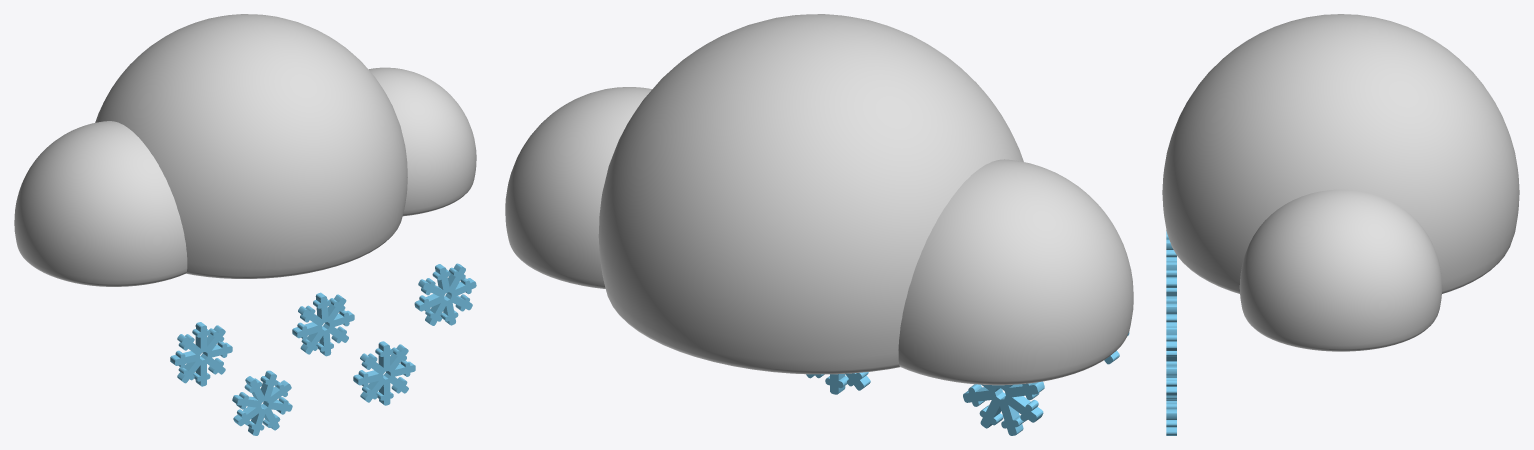
File: Cloud_with_Snow.gltf
The picture shows the model from 3 angles, left to right: view 1: azimuth 30°, elevation 25°; view 2: azimuth 150°, elevation 25°; view 3: azimuth 270°, elevation 25°; orthographic projection. The views are drawn at different scales.
Visible parts, largest first — view 1: Cube.209, Circle.2119, Circle.2120, Circle.2117, Circle.2116, Circle.2118; view 2: Cube.209, Circle.2119, Circle.2120; view 3: Cube.209, Circle.2117, Circle.2116, Circle.2120.
Boxes of the visible parts, bbox=[...] form: Cube.209: bbox=[14, 14, 476, 286]; Circle.2119: bbox=[232, 370, 292, 435]; Circle.2120: bbox=[353, 341, 415, 405]; Circle.2117: bbox=[414, 263, 476, 325]; Circle.2116: bbox=[292, 292, 354, 356]; Circle.2118: bbox=[170, 322, 232, 386]; Cube.209: bbox=[505, 14, 1133, 385]; Circle.2119: bbox=[963, 381, 1044, 435]; Circle.2120: bbox=[806, 372, 870, 394]; Cube.209: bbox=[1162, 14, 1519, 351]; Circle.2117: bbox=[1166, 326, 1176, 398]; Circle.2116: bbox=[1166, 261, 1176, 326]; Circle.2120: bbox=[1166, 399, 1176, 435].
Size of the model in its own units: 2.15 by 1.57 by 1.37.
1 material, 1 textured.
